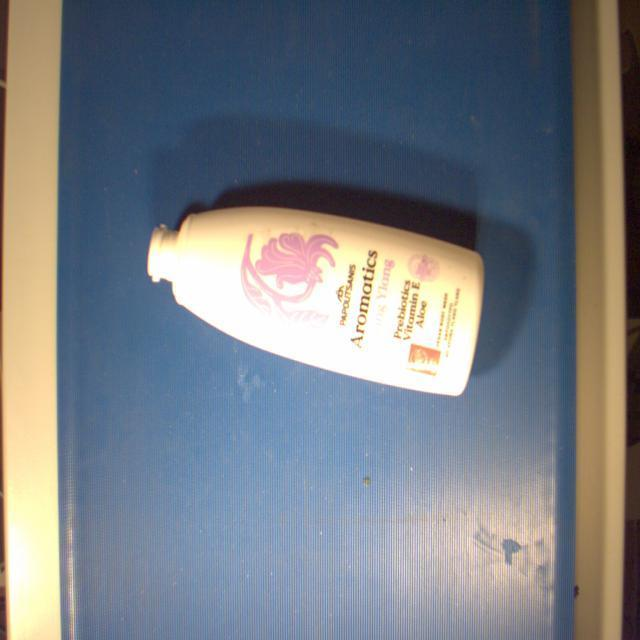HDPE Plastic: (144, 201, 487, 399)
